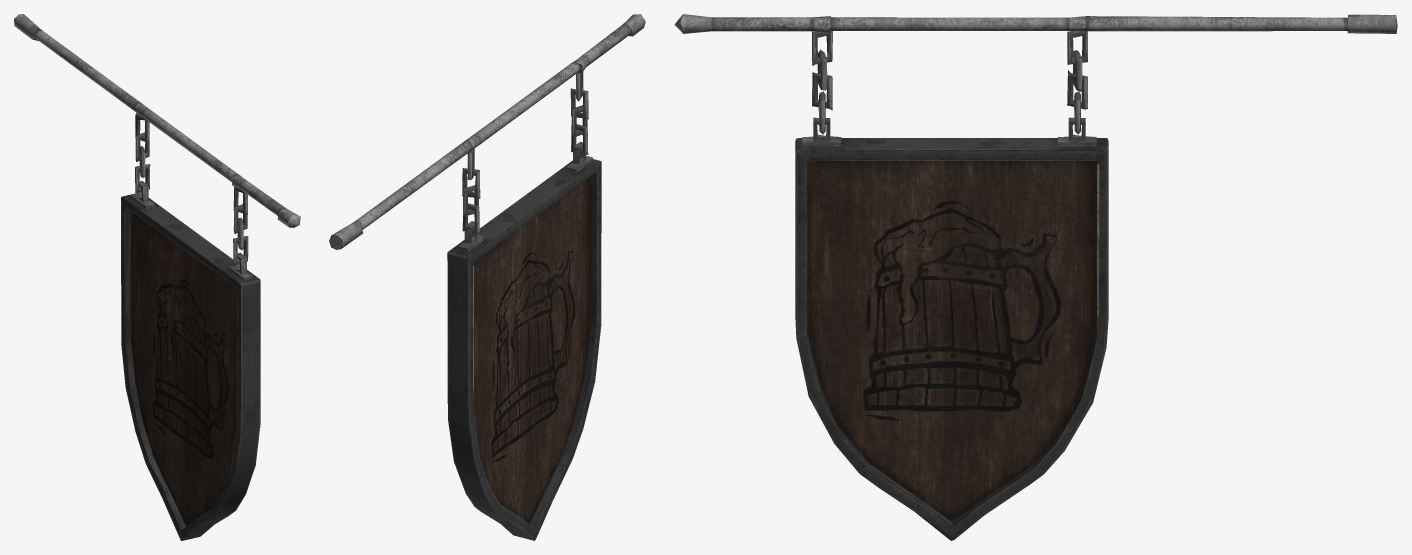
Rendered from SM_TavernSign_01.fbx.
3 views of the same model, side by side, from view 1: azimuth 30°, elevation 25°; view 2: azimuth 150°, elevation 25°; view 3: azimuth 270°, elevation 25° (orthographic). The views are drawn at different scales.
Parts seen in each view (by area): view 1: SM_TavernSign_01_LOD0; view 2: SM_TavernSign_01_LOD0; view 3: SM_TavernSign_01_LOD0.
Part boxes in pixels (box(x1,y1,x2,y2)): SM_TavernSign_01_LOD0: box(14, 14, 300, 540); SM_TavernSign_01_LOD0: box(329, 14, 645, 540); SM_TavernSign_01_LOD0: box(674, 14, 1397, 540).
Bounding box in the file's own units: 6.16 × 147 × 117.
